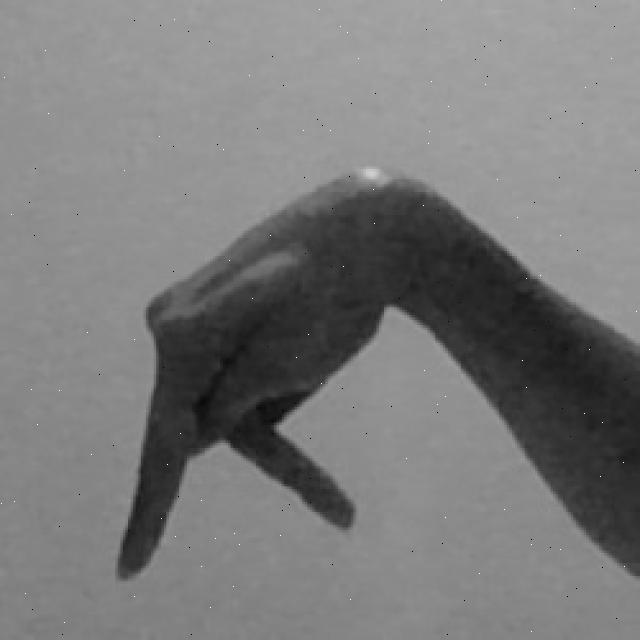P: (112, 157, 640, 587)
